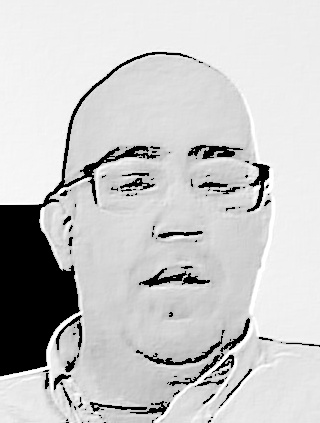nose_M_C: (148, 184, 210, 254)
